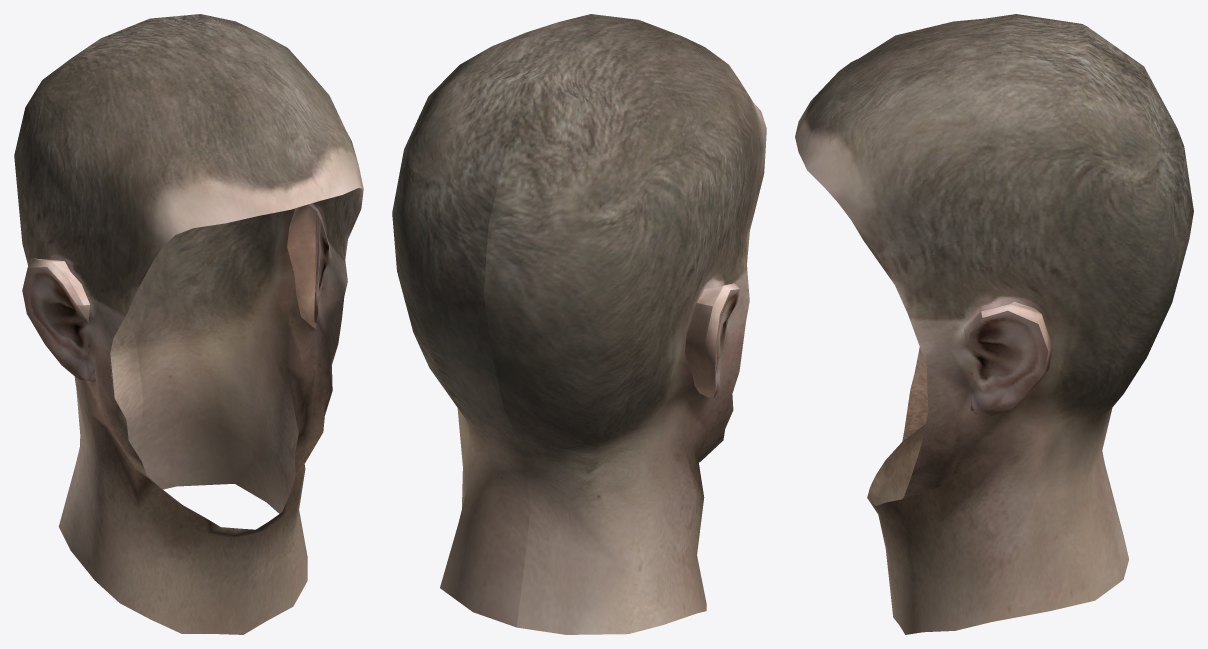
3 views of the same model, side by side, from view 1: azimuth 30°, elevation 25°; view 2: azimuth 150°, elevation 25°; view 3: azimuth 270°, elevation 25° (orthographic). The views are drawn at different scales.
Parts seen in each view (by area): view 1: Object_22; view 2: Object_22; view 3: Object_22.
Boxes of the visible parts, x1,y1,x2,y2 form: Object_22: [14, 14, 363, 634]; Object_22: [392, 14, 766, 634]; Object_22: [795, 14, 1193, 634].
Bounding box in the file's own units: 520 × 944 × 584.
Materials: 1 (1 with a texture image).
